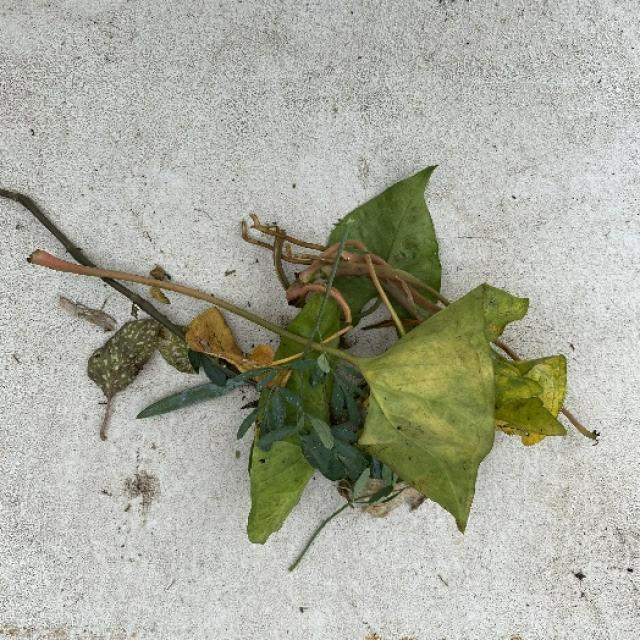organik: (68, 180, 556, 542)
